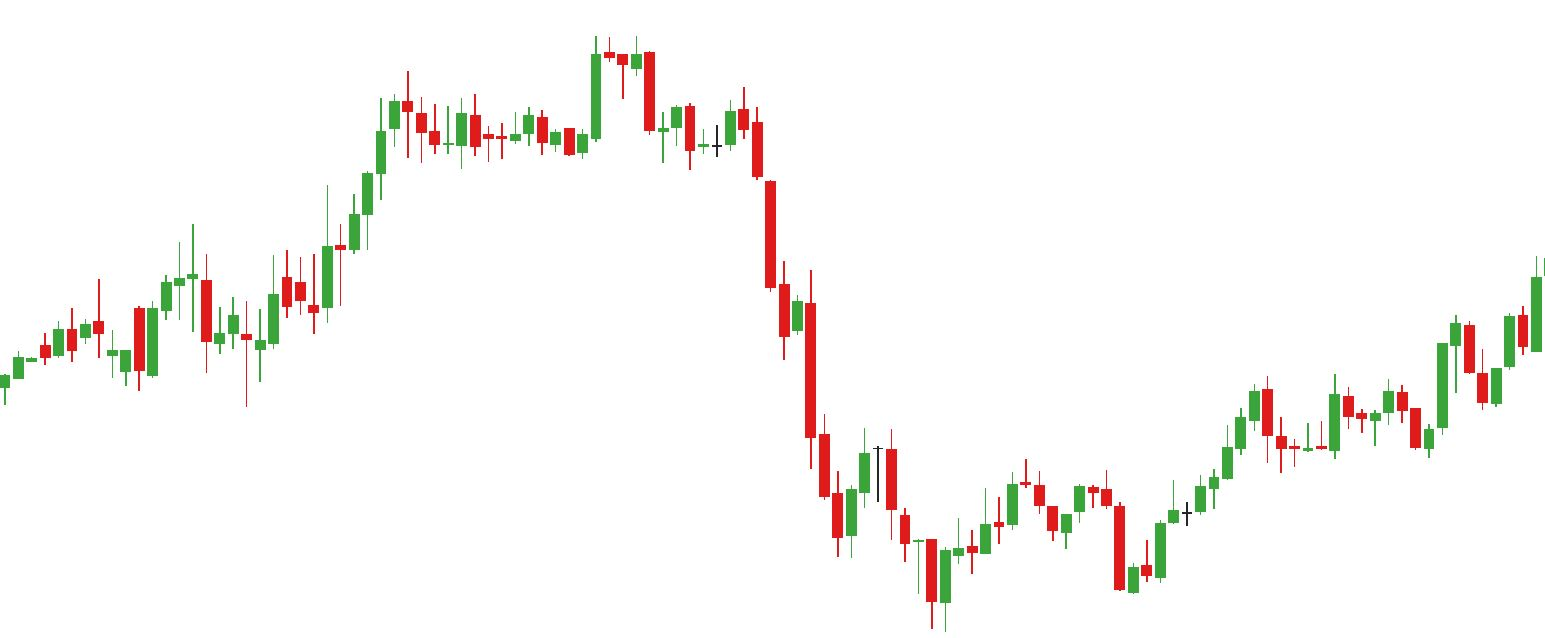buy: (132, 292, 266, 413), (1049, 490, 1169, 594)
